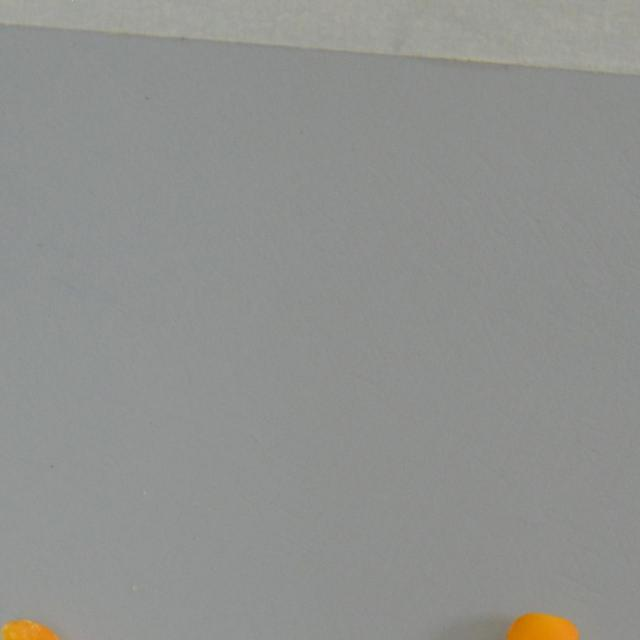dañado: (491, 608, 596, 640)
punto_negro: (0, 604, 106, 640)
